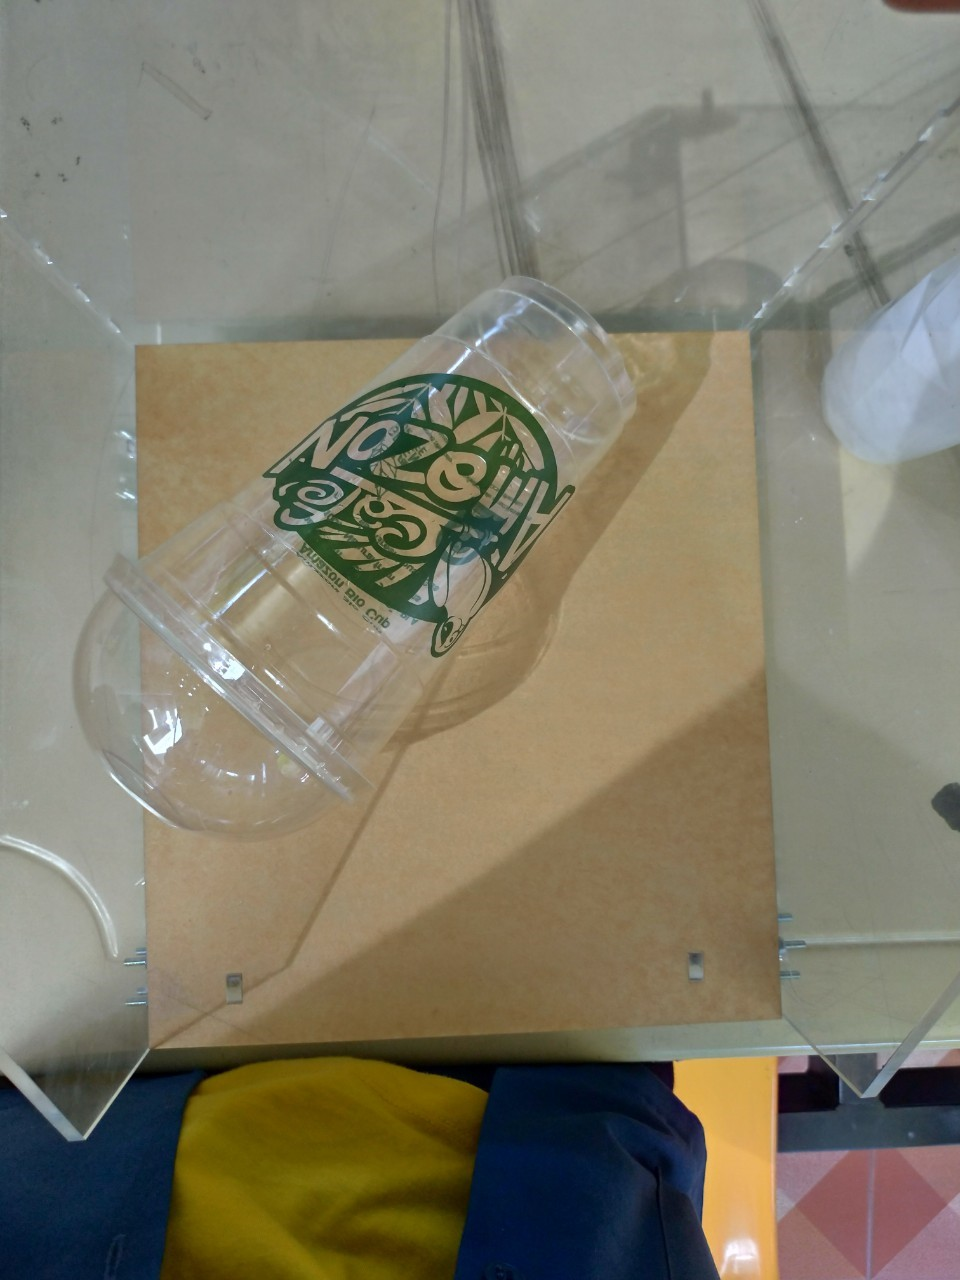PlasticCup: (73, 270, 633, 841)
